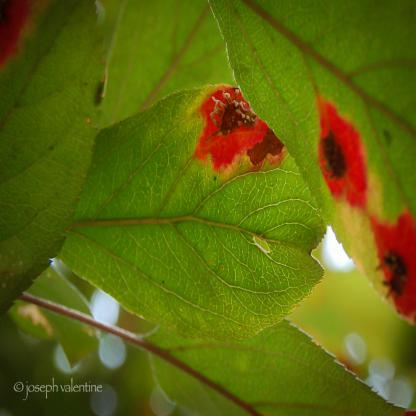Apple rust leaf: (68, 84, 340, 354)
